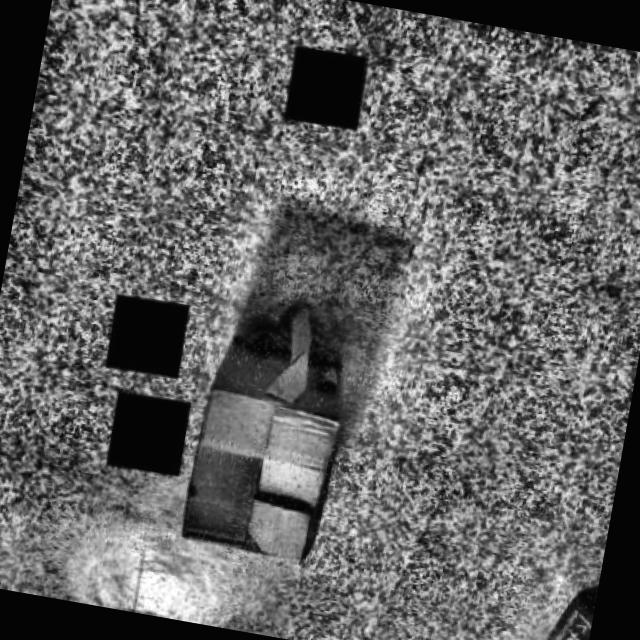box: (166, 316, 380, 583)
